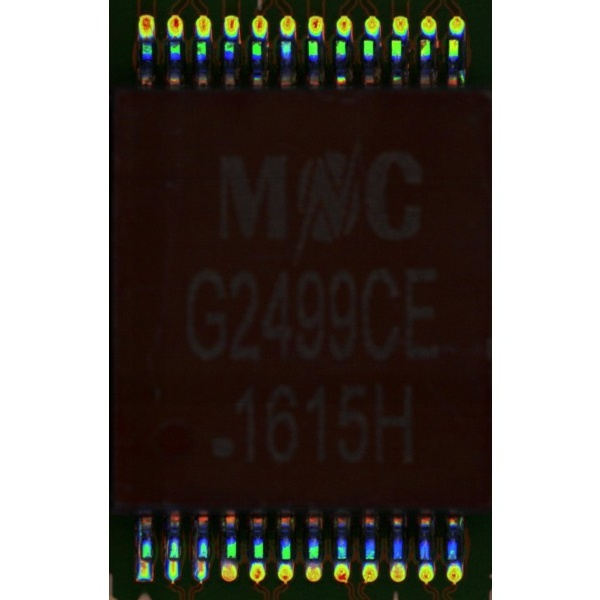Bad_podu: (140, 552, 148, 572), (169, 553, 176, 572), (198, 551, 205, 569)
Bad_qiaojiao: (136, 523, 141, 559)
